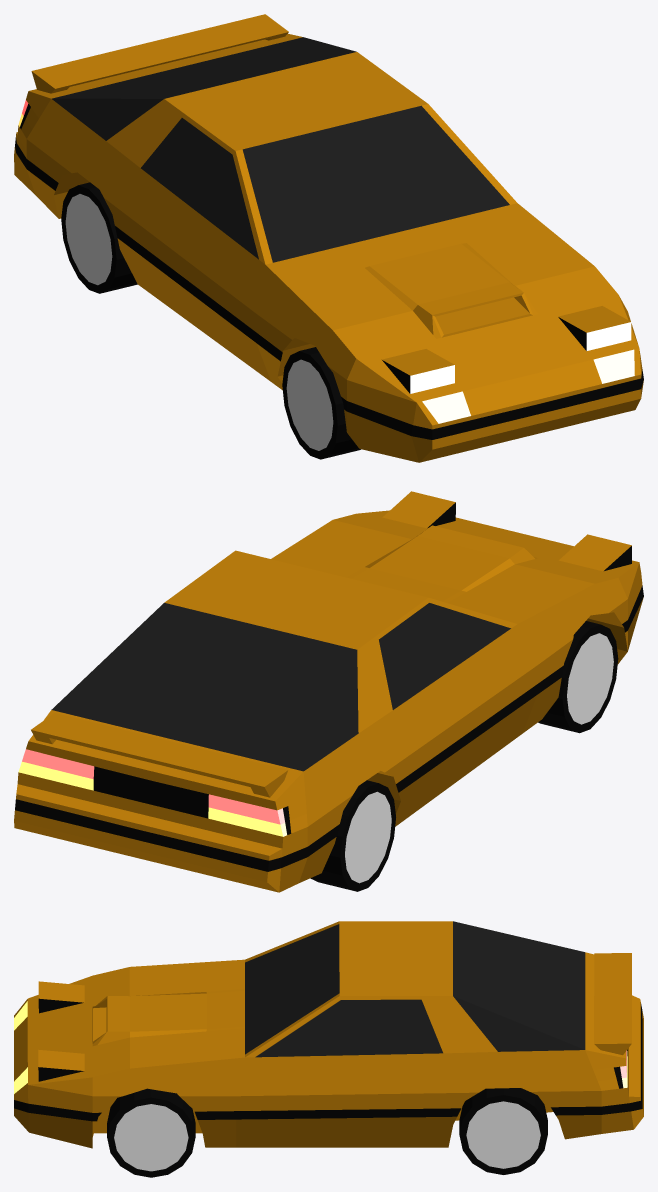
3 renders of one model, top to bottom at view 1: azimuth 30°, elevation 25°; view 2: azimuth 150°, elevation 25°; view 3: azimuth 270°, elevation 25°, orthographic. The views are drawn at different scales.
Visible parts, largest first — view 1: rx7.001; view 2: rx7.001; view 3: rx7.001.
Boxes of the visible parts, x1,y1,x2,y2 form: rx7.001: (14, 14, 643, 462); rx7.001: (14, 491, 643, 892); rx7.001: (14, 921, 643, 1177).
Bounding box in the file's own units: 2.06 × 1.45 × 5.02.
